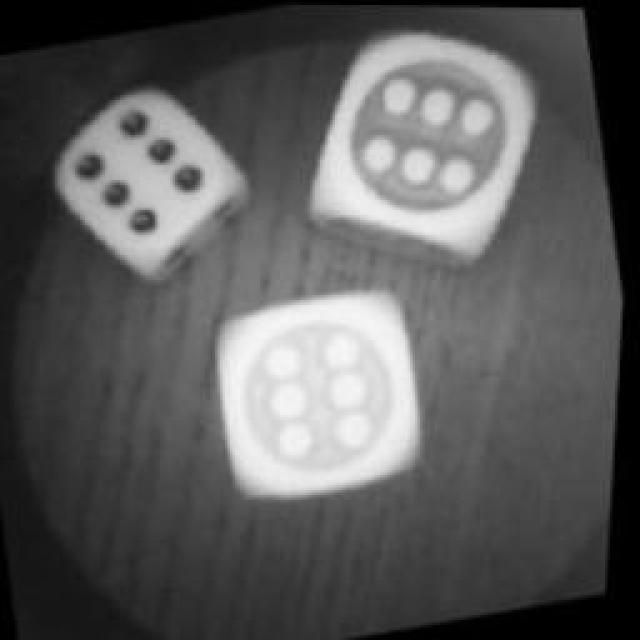dice_6: (277, 2, 575, 278), (196, 272, 452, 522), (38, 66, 260, 286)
